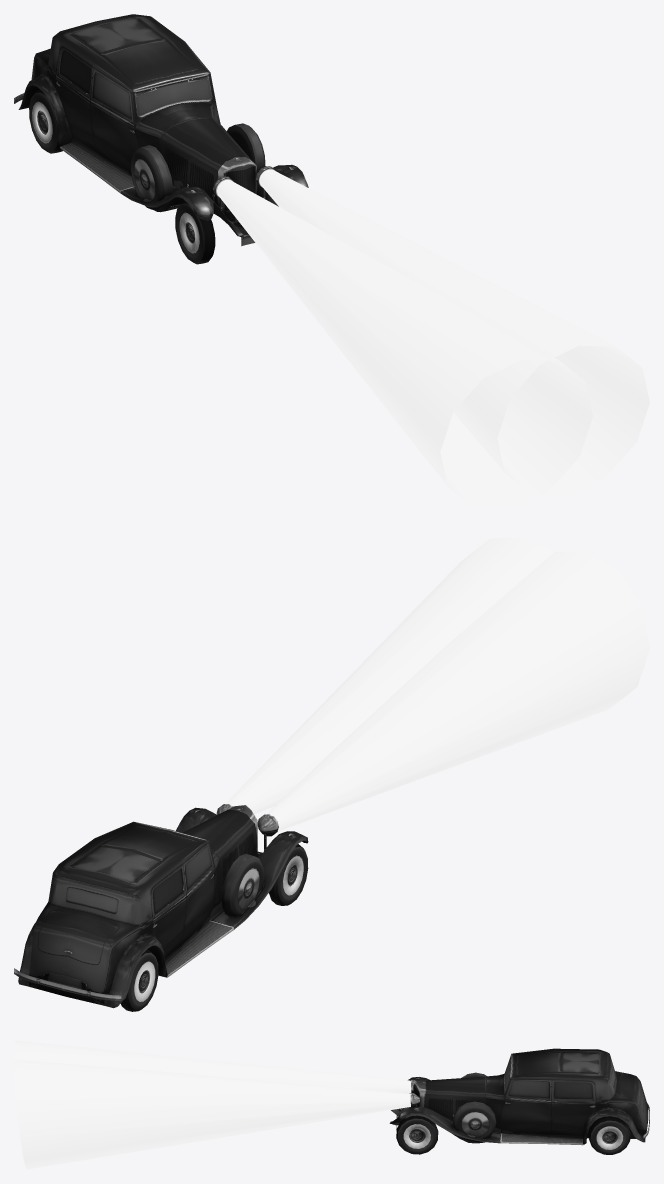
Rendered from Old_Car_01.glb.
3 views of the same model, one above another, from view 1: azimuth 30°, elevation 25°; view 2: azimuth 150°, elevation 25°; view 3: azimuth 270°, elevation 25° (orthographic). The views are drawn at different scales.
Visible parts, largest first — view 1: Old_Car_01, Wheel-Front-Right, Wheel-Back-Right, Window; view 2: Old_Car_01, Wheel-Front-Right, Wheel-Back-Right, Window; view 3: Old_Car_01, Wheel-Front-Left, Wheel-Back-Left.
Boxes of the visible parts, x1,y1,x2,y2 form: Old_Car_01: (14, 14, 649, 508); Wheel-Front-Right: (175, 201, 215, 264); Wheel-Back-Right: (29, 89, 62, 153); Window: (59, 50, 91, 93); Old_Car_01: (14, 537, 649, 1008); Wheel-Front-Right: (269, 844, 308, 905); Wheel-Back-Right: (120, 949, 158, 1011); Window: (152, 869, 183, 913); Old_Car_01: (14, 1040, 649, 1169); Wheel-Front-Left: (396, 1115, 438, 1154); Wheel-Back-Left: (589, 1116, 630, 1154).
Size of the model in its own units: 3.2 by 2.31 by 13.19.
3 materials, 1 textured.
